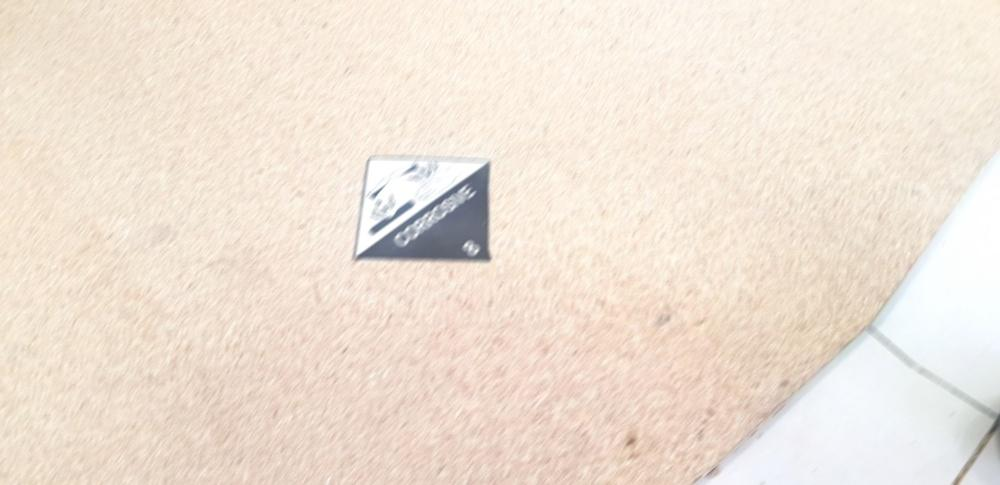corrosive: (351, 152, 499, 270)
